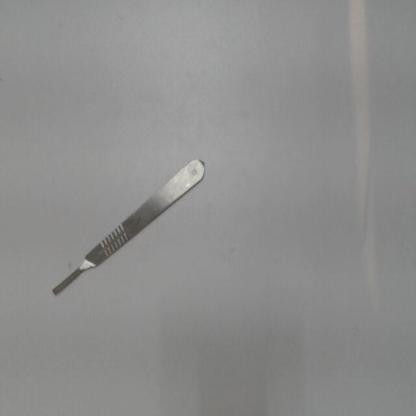No.4 BP Handle: (40, 145, 214, 308)
